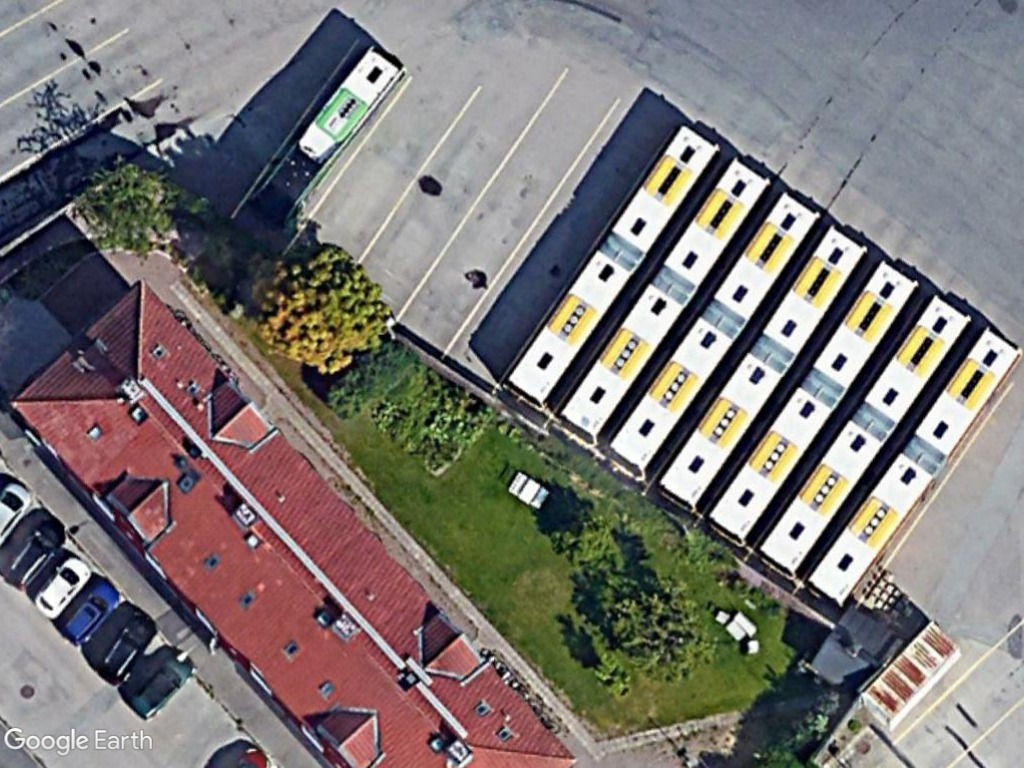bus: (598, 185, 825, 482), (702, 253, 927, 552), (554, 146, 777, 447), (746, 291, 974, 583), (799, 322, 1024, 612), (501, 121, 722, 413), (654, 221, 869, 517), (243, 44, 406, 236)
car: (122, 651, 202, 726), (2, 515, 72, 594), (57, 576, 122, 648), (96, 612, 158, 687), (34, 552, 93, 621)
